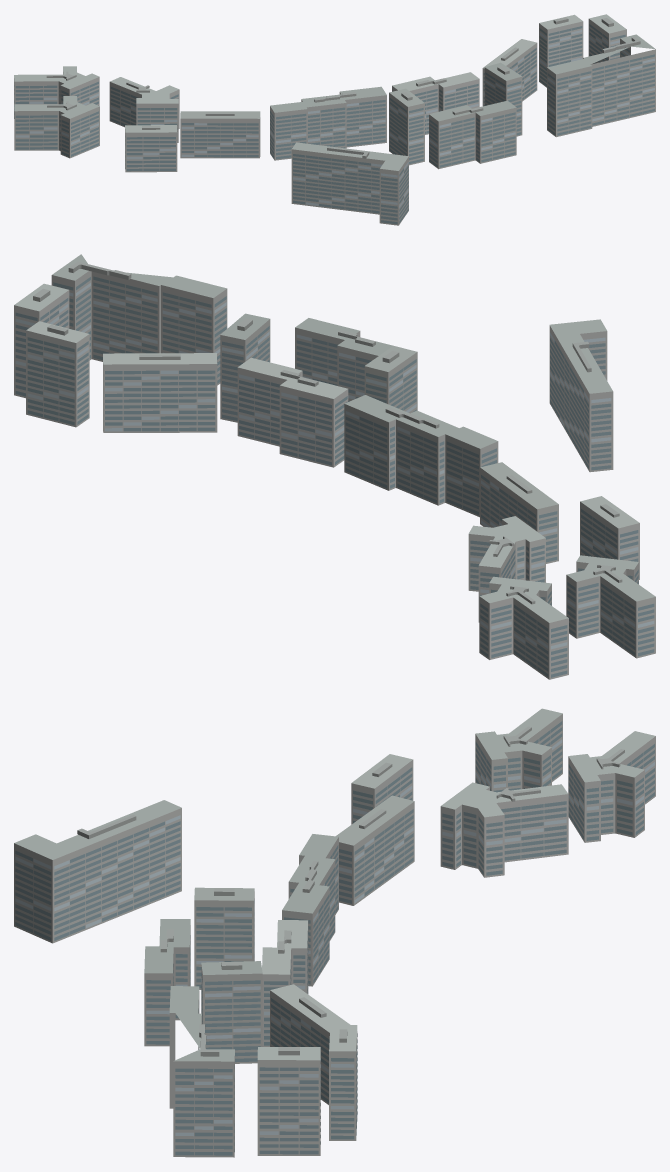
The model's file is apt-a15608003.glb.
3 views of the same model, one above another, from view 1: azimuth 30°, elevation 25°; view 2: azimuth 150°, elevation 25°; view 3: azimuth 270°, elevation 25° (orthographic). The views are drawn at different scales.
Parts seen in each view (by area): view 1: apt-a15608003; view 2: apt-a15608003; view 3: apt-a15608003.
Boxes of the visible parts, x1,y1,x2,y2 form: apt-a15608003: [14, 14, 655, 225]; apt-a15608003: [14, 254, 655, 679]; apt-a15608003: [14, 708, 655, 1157].
Bounding box in the file's own units: 382 × 46 × 267.
